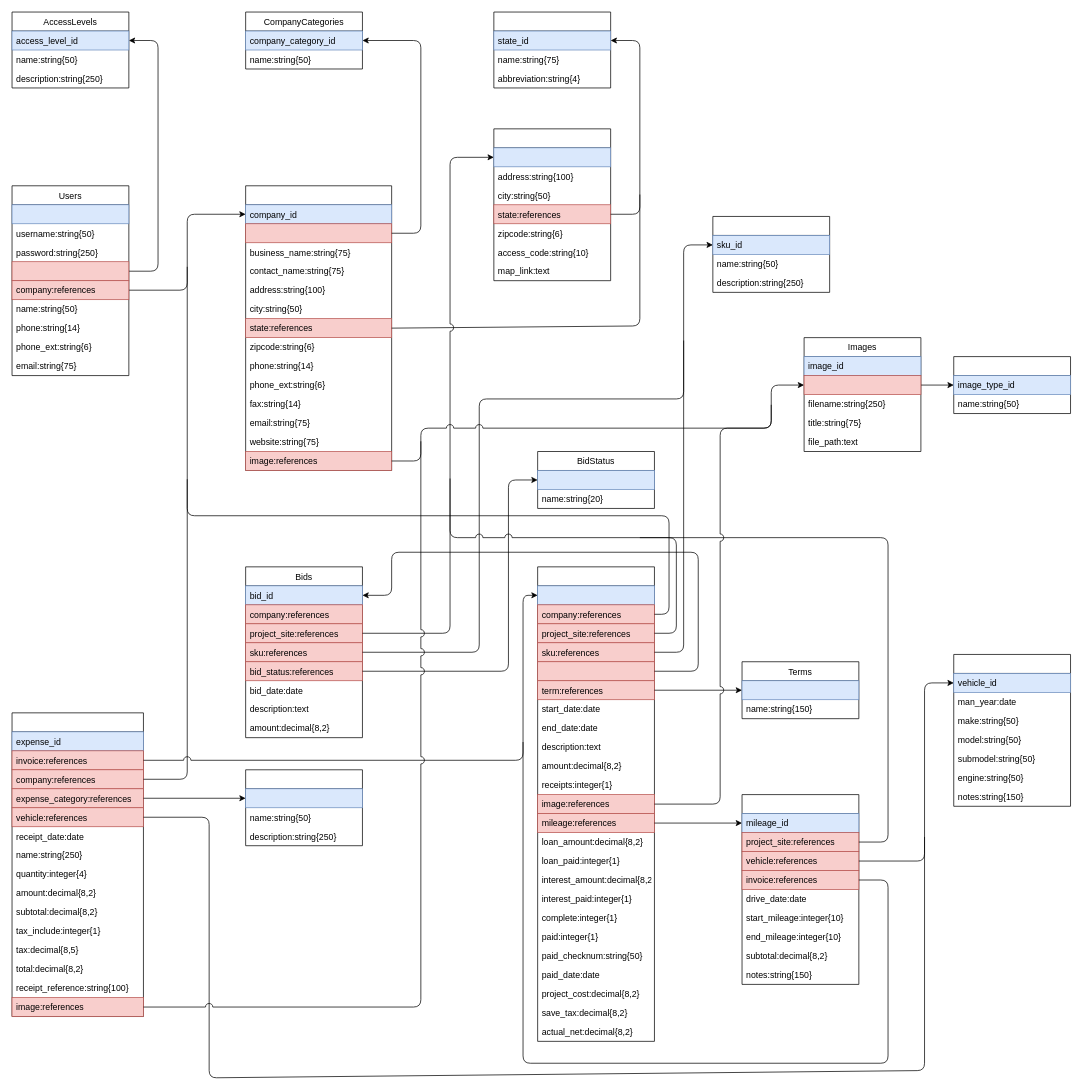
This 1083x1090 diagram has some shape labels left out. The shapes that lost their labels are listed below. From the top down, each one's box as (x1, y1, x2, y2) in pixels, then its label:
(493, 11, 611, 88): States
(493, 147, 611, 167): project_site_id
(11, 204, 129, 224): user_id
(493, 128, 611, 281): ProjectSites
(245, 223, 392, 243): company_category:references
(11, 261, 129, 281): access_level:references
(712, 216, 830, 292): Skus
(245, 185, 392, 470): Companies
(803, 375, 921, 395): image_type:references
(953, 356, 1071, 414): ImageTypes
(537, 470, 654, 489): bid_status_id
(537, 585, 654, 605): invoice_id
(537, 661, 654, 681): bid:references
(741, 680, 859, 700): term_id
(953, 654, 1071, 806): Vehicles
(245, 788, 362, 808): expense_category_id
(245, 769, 362, 846): ExpenseCategories
(537, 566, 654, 1041): Invoices
(11, 712, 143, 1017): Expenses
(741, 794, 859, 984): Mileages
